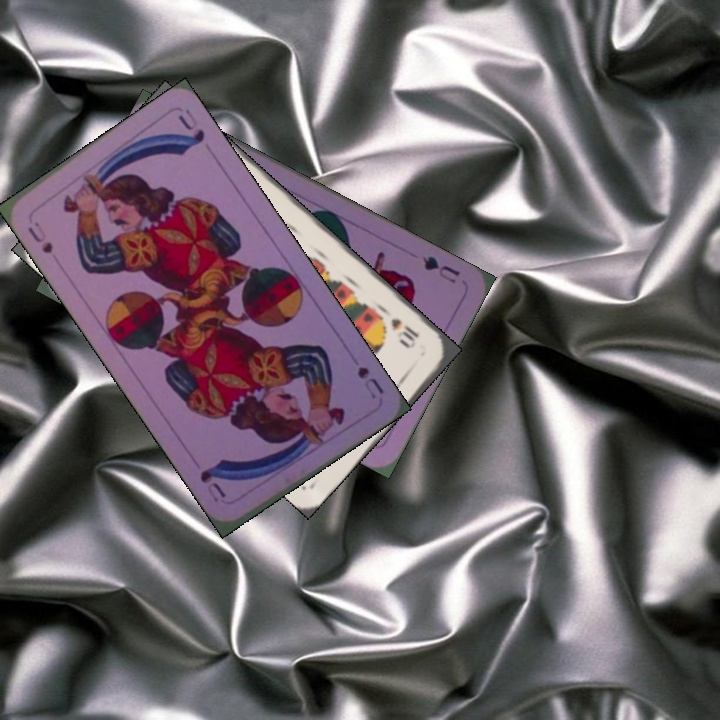GU: (418, 251, 463, 286)
S10: (387, 313, 422, 350)
SU: (353, 362, 387, 401), (23, 217, 56, 256)
